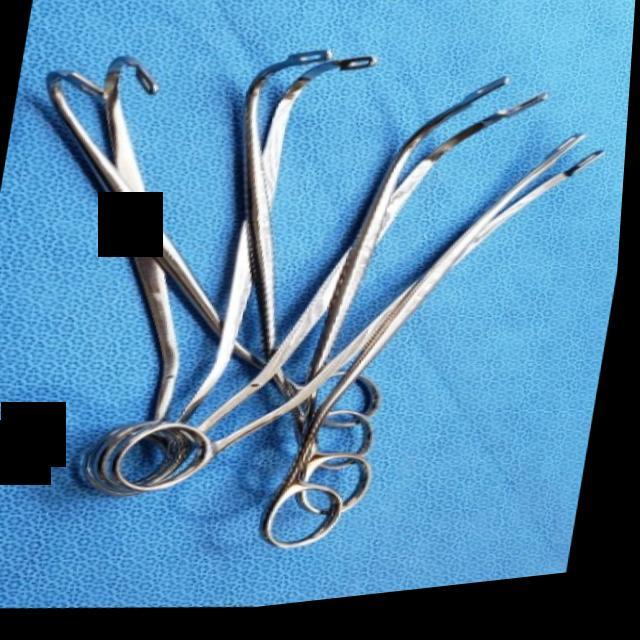Randall: (80, 36, 568, 578), (0, 0, 449, 558), (114, 17, 408, 545)
